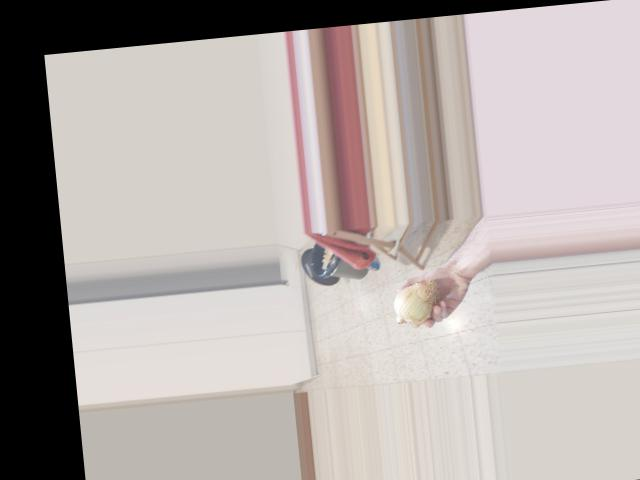onion: (390, 277, 440, 326)
